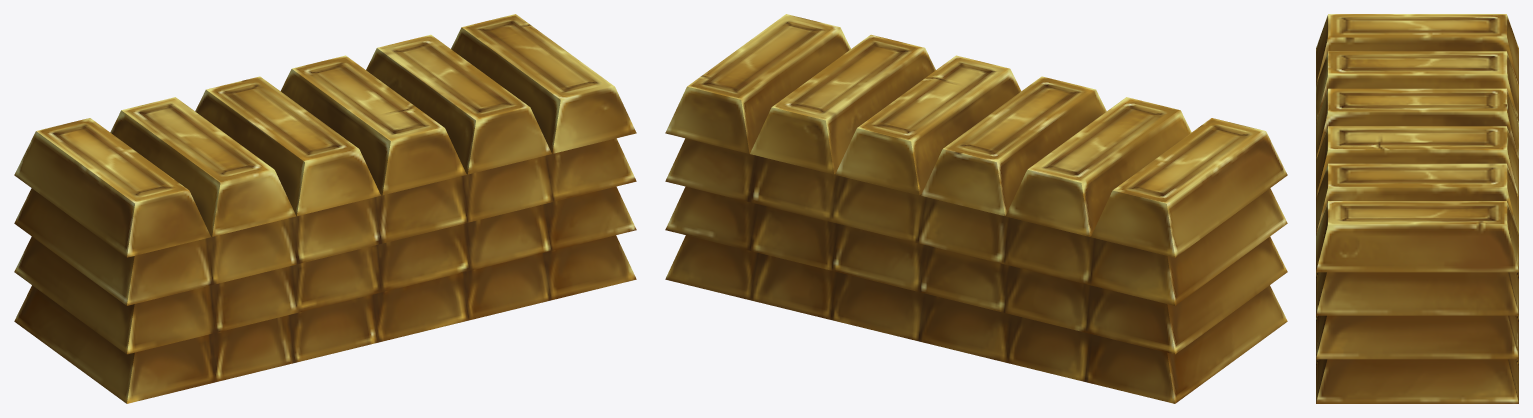
Rendered from golden_bars.fbx.
3 renders of one model, left to right at view 1: azimuth 30°, elevation 25°; view 2: azimuth 150°, elevation 25°; view 3: azimuth 270°, elevation 25°, orthographic. The views are drawn at different scales.
Visible parts, largest first — view 1: golden_bars; view 2: golden_bars; view 3: golden_bars.
Boxes of the visible parts, x1=… form: golden_bars: x1=14, y1=14, x2=636, y2=403; golden_bars: x1=665, y1=14, x2=1287, y2=403; golden_bars: x1=1316, y1=14, x2=1518, y2=403.
Bounding box in the file's own units: 112 × 40.17 × 42.8.
